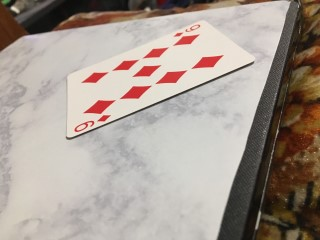NineOfDiamonds: (66, 20, 255, 139)
